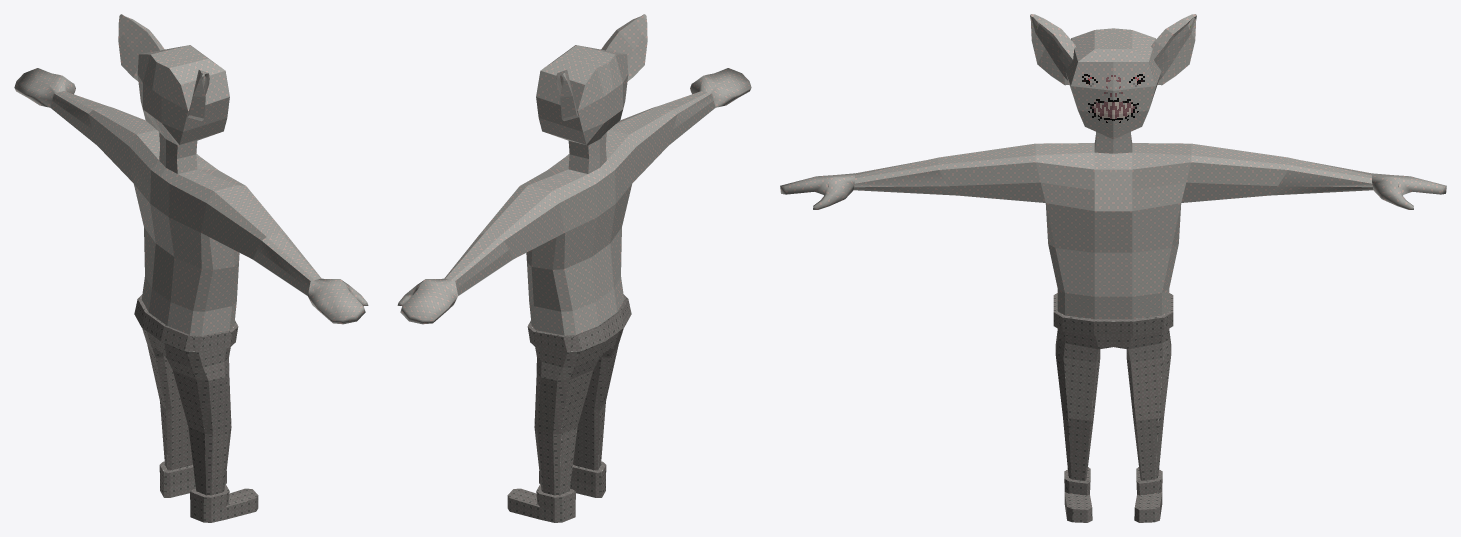
The model's file is goblin_main.glb.
3 views of the same model, side by side, from view 1: azimuth 30°, elevation 25°; view 2: azimuth 150°, elevation 25°; view 3: azimuth 270°, elevation 25° (orthographic).
Parts seen in each view (by area): view 1: Cube; view 2: Cube; view 3: Cube.
Boxes of the visible parts, box(x1,y1,x2,y2) form: Cube: box(14, 14, 368, 522); Cube: box(397, 14, 751, 522); Cube: box(780, 14, 1446, 522).
Size of the model in its own units: 2.15 by 10.86 by 13.9.
Materials: 1 (1 with a texture image).
